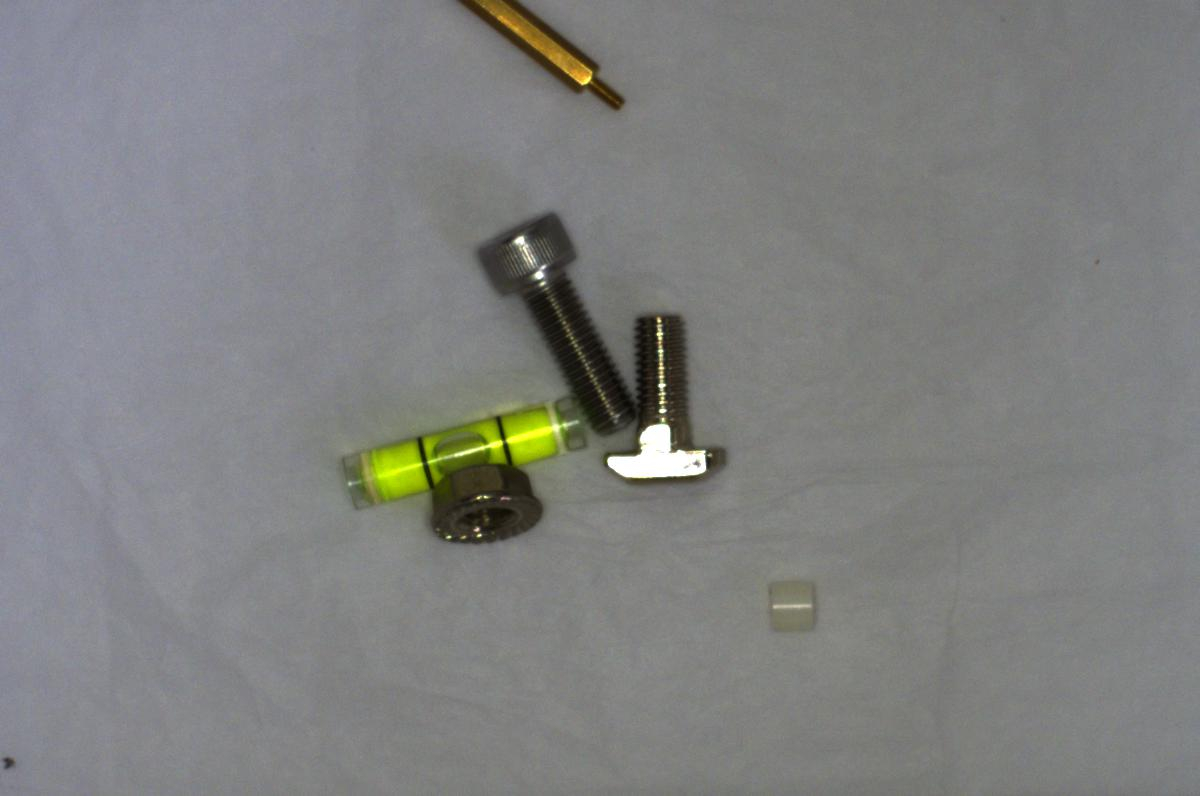Flange nut: (421, 462, 547, 554)
Hexagon pillar: (471, 1, 628, 109)
Hexagon screw: (473, 205, 632, 436)
Horizontal bubble: (328, 392, 594, 509)
Plastic cushion pillar: (761, 568, 819, 640)
T-shaped screw: (601, 304, 728, 489)
